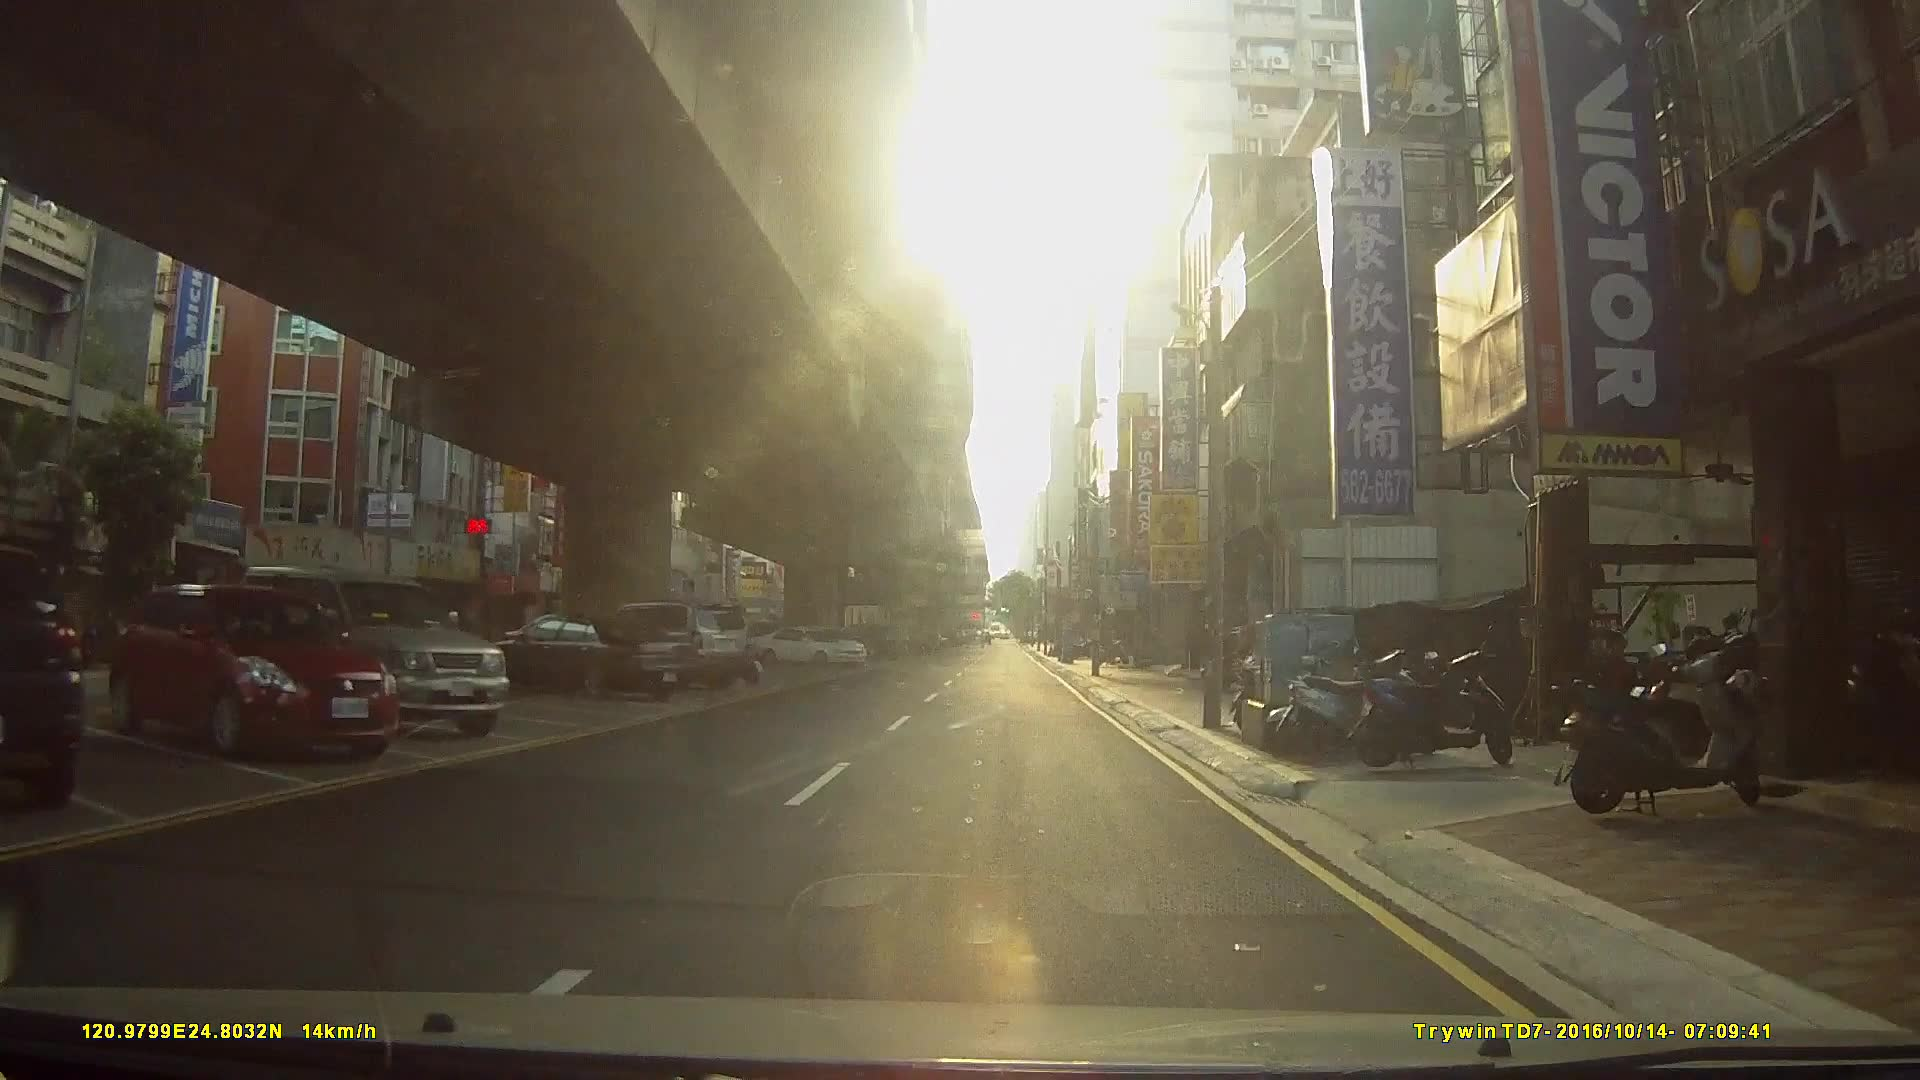vehicle: (105, 583, 400, 760), (235, 563, 510, 745), (0, 545, 87, 810), (491, 615, 696, 702), (585, 603, 749, 694), (752, 625, 869, 669)
